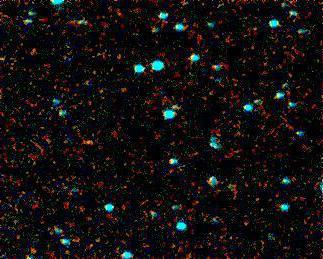star: (69, 125, 99, 155)
